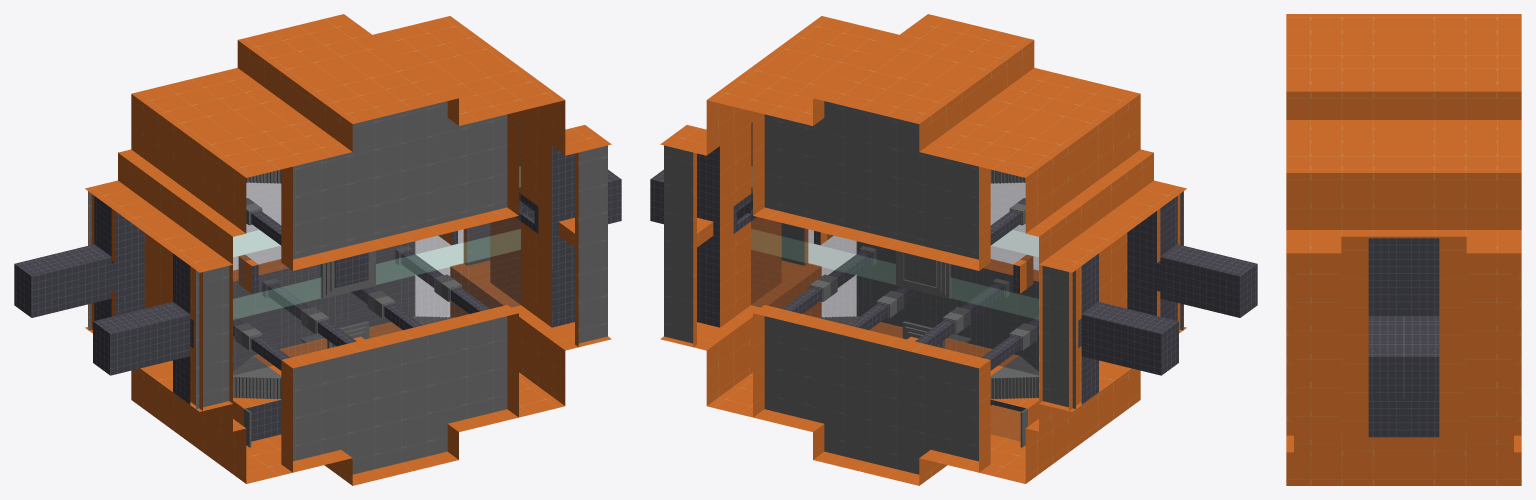
File: arenaTest2.glb
The picture shows the model from 3 angles, left to right: view 1: azimuth 30°, elevation 25°; view 2: azimuth 150°, elevation 25°; view 3: azimuth 270°, elevation 25°; orthographic projection. The views are drawn at different scales.
Visible parts, largest first — view 1: entity0_brush0; view 2: entity0_brush0; view 3: entity0_brush0.
Part boxes in pixels (<box>): entity0_brush0: <box>14,14,621,485</box>; entity0_brush0: <box>650,14,1257,485</box>; entity0_brush0: <box>1286,14,1521,485</box>.
Size of the model in its own units: 261 by 166 by 96.
5 materials, 5 textured.
